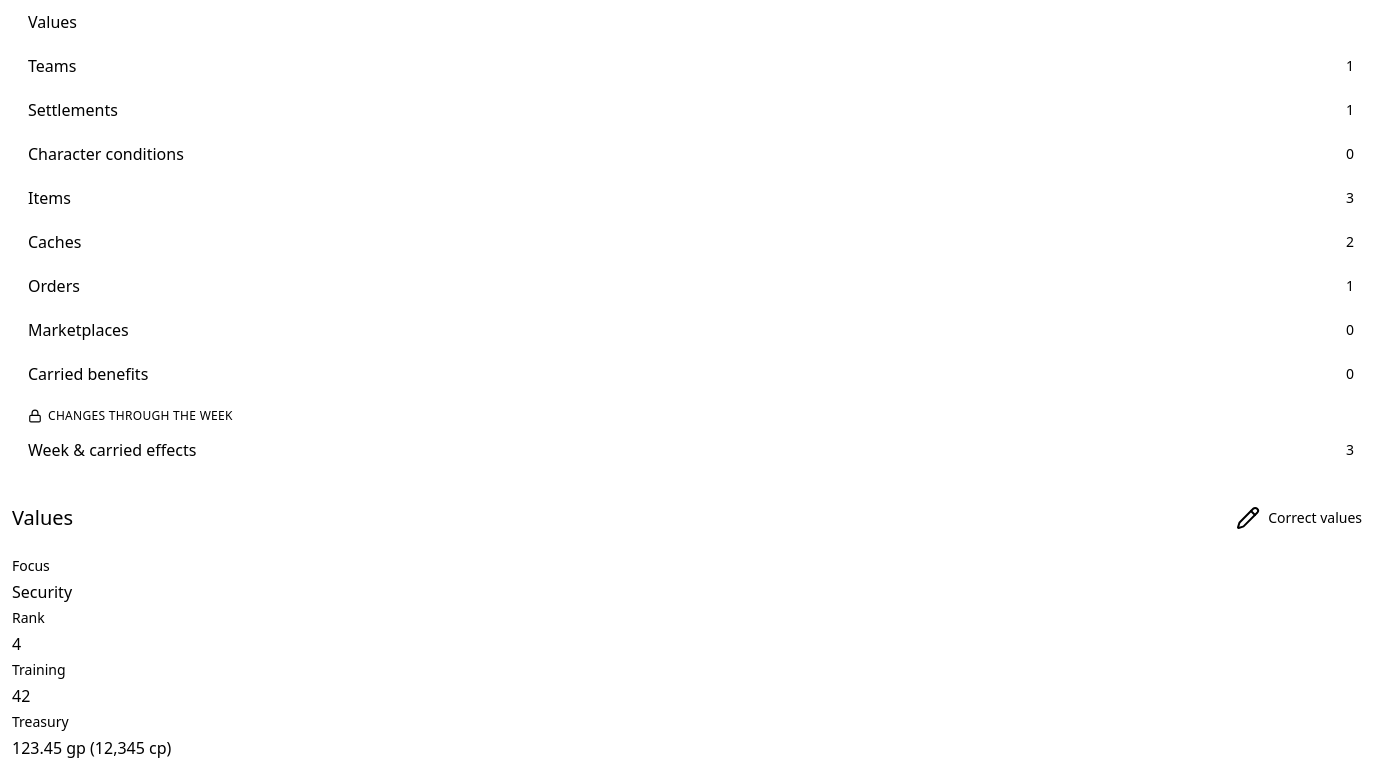
Scenario: Items correction › a malformed decimal is invalid, not required, in the linked summary
Click the button "Items 3" at (49, 198), box [12,176,1370,220]
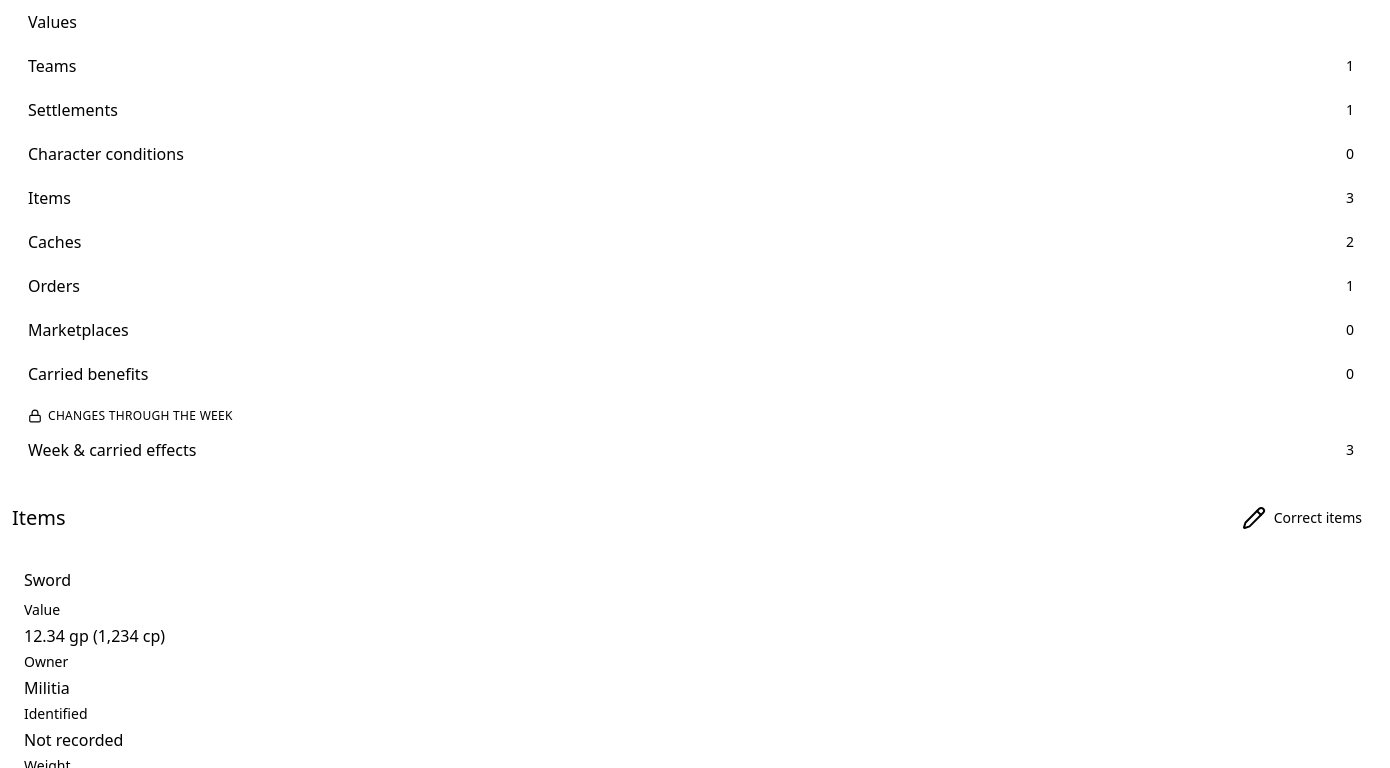
Click the button "Correct items" at (1302, 518), box [1226,496,1378,540]
(page scrolled)
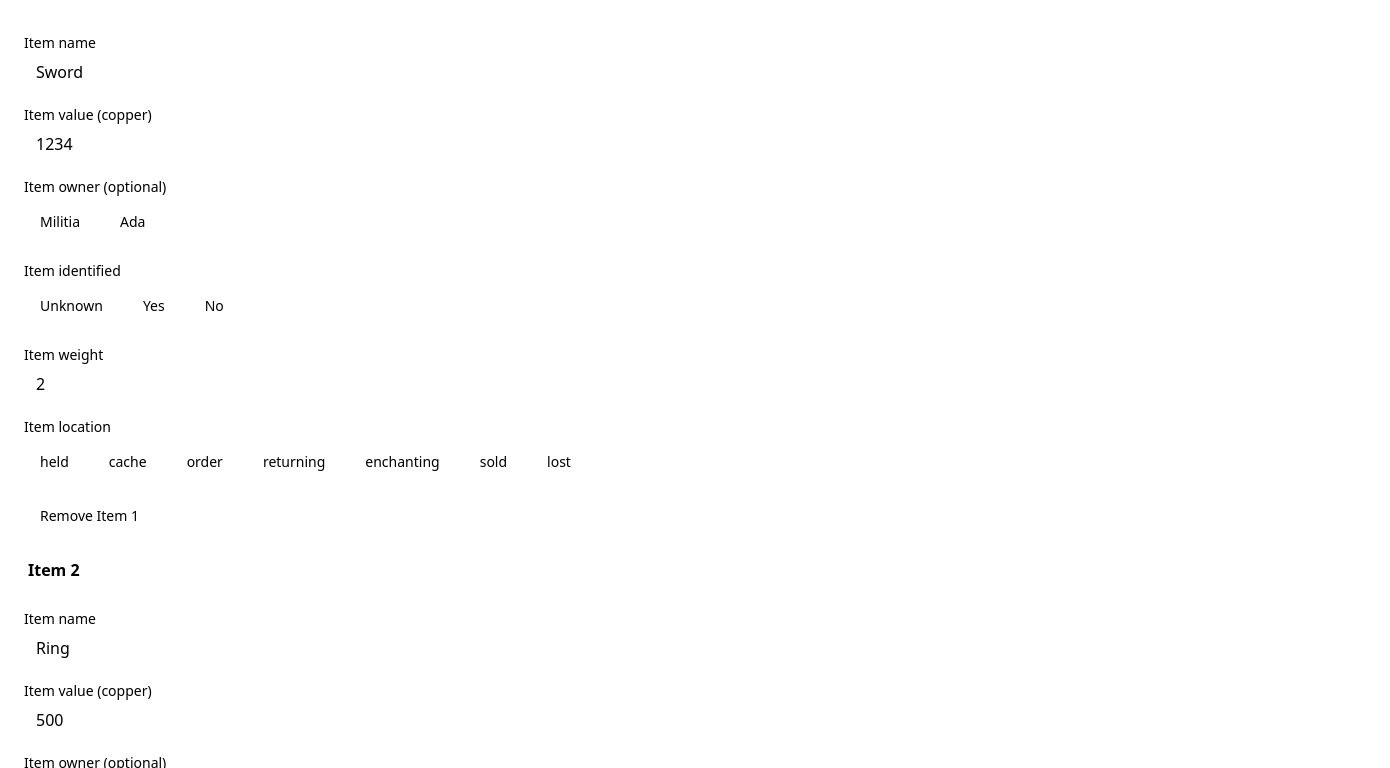
Replace the text in the field labelled "Item weight" with "2.x" at (695, 384), box [24,366,1366,402]
(page scrolled)
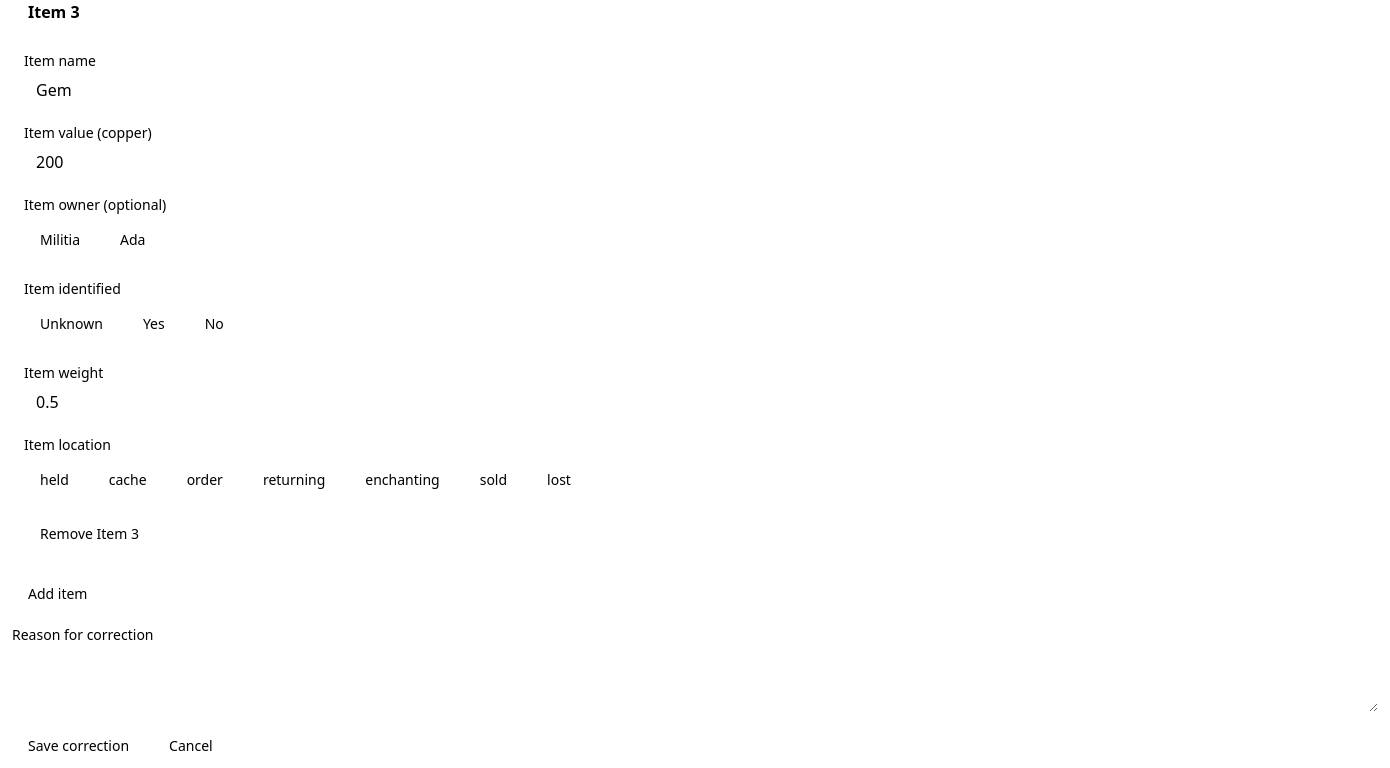
Expected: the text box labelled "Reason for correction" is shown
Type "Reweighed" into the text box labelled "Reason for correction" at (695, 680), box [12,648,1378,712]
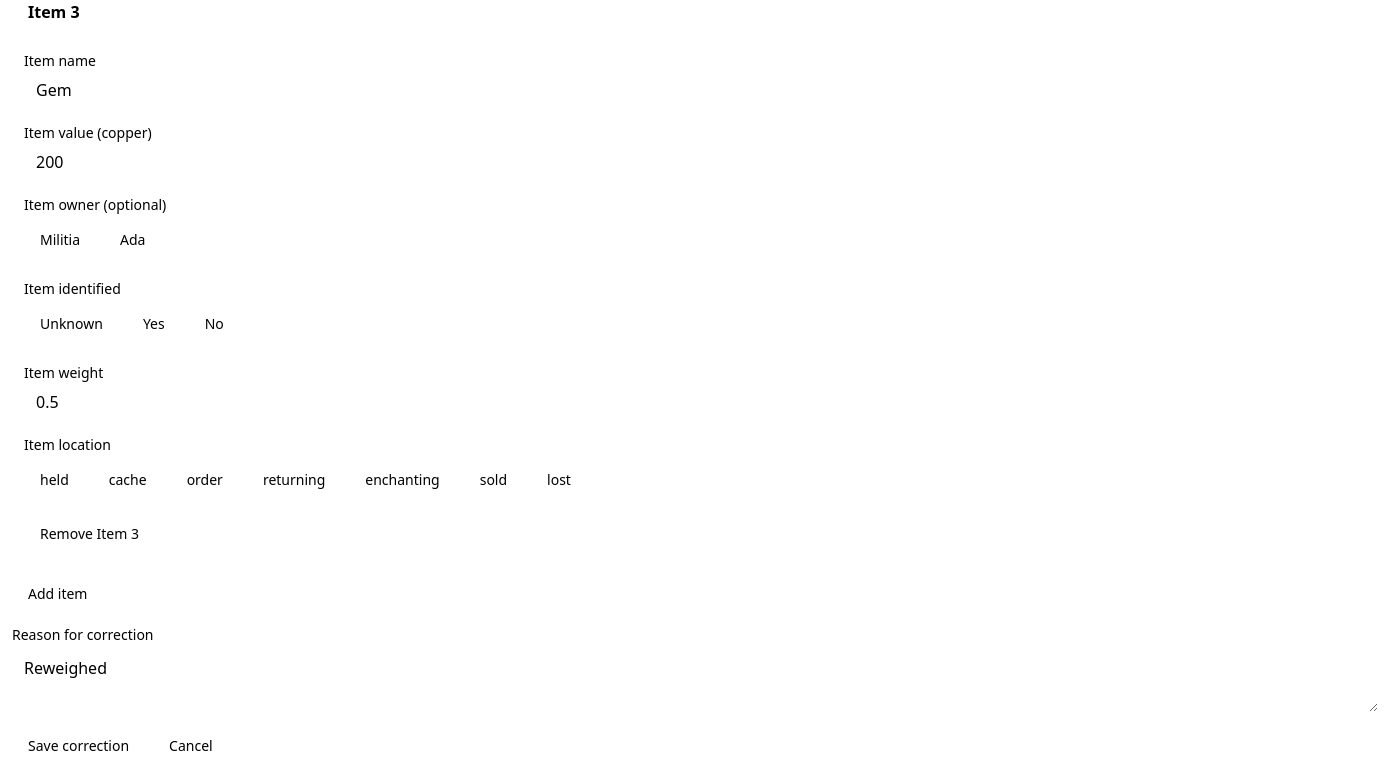
Expected: the button "Save correction" is shown
Click the button "Save correction" at (79, 746), box [12,724,145,767]
(page scrolled)
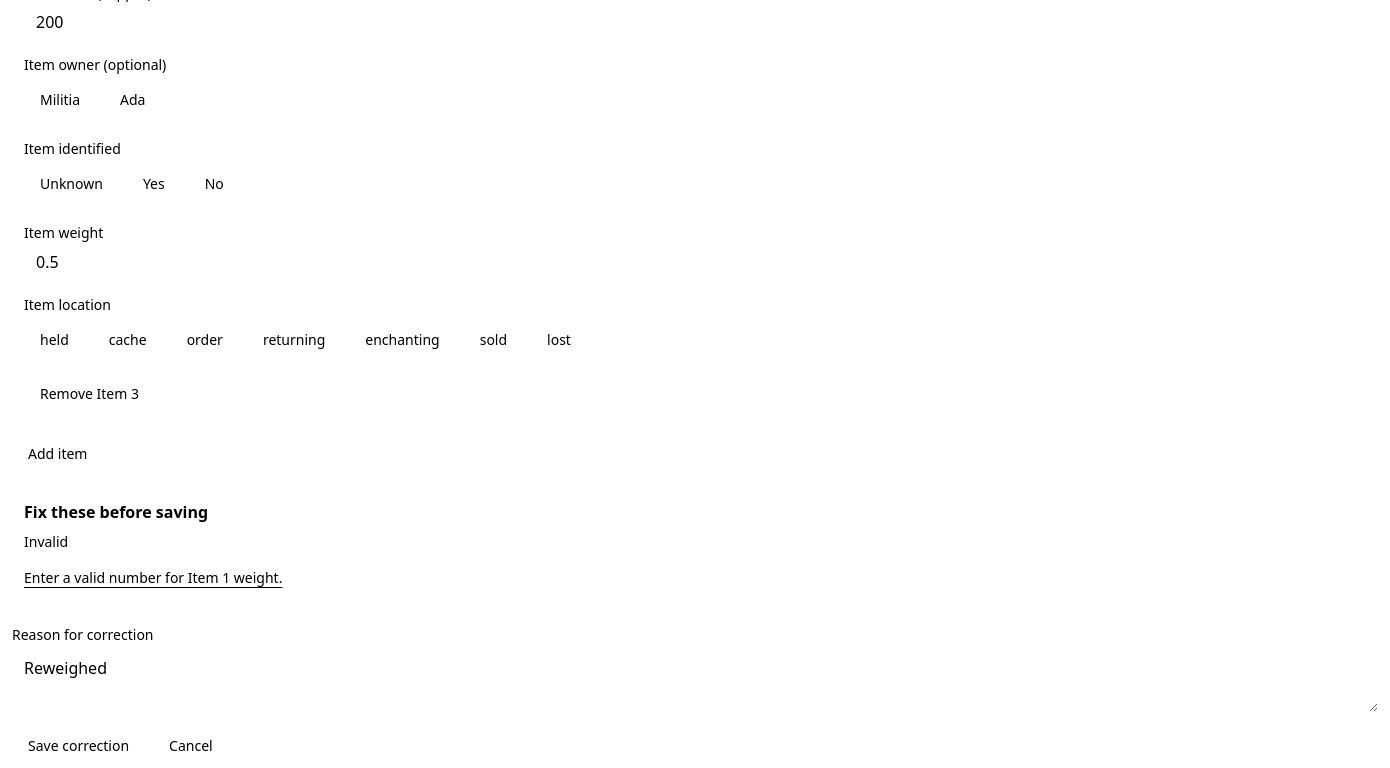
Expected: the button "Enter a valid number for Item 1 weight." is shown, [24,556,282,600]
